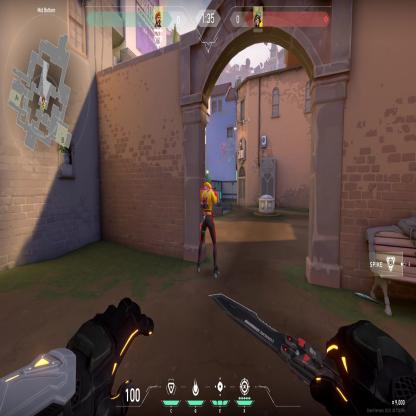enemy: (194, 172, 220, 283)
